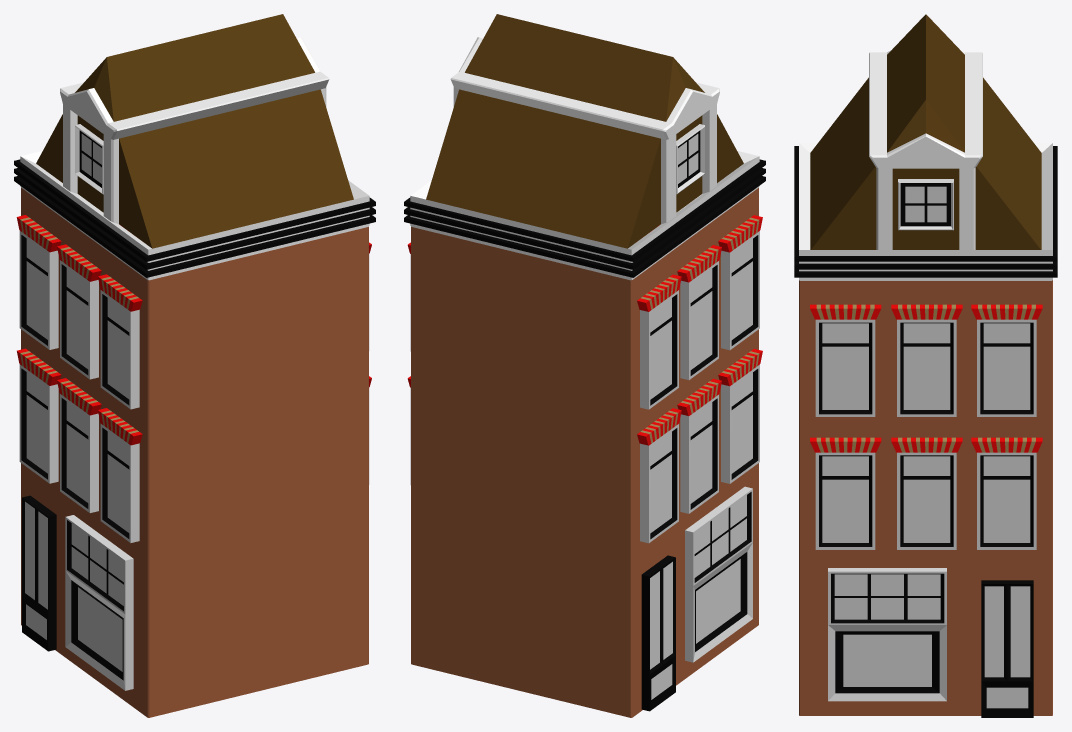
The model's file is CanalHouse2.fbx.
3 views of the same model, side by side, from view 1: azimuth 30°, elevation 25°; view 2: azimuth 150°, elevation 25°; view 3: azimuth 270°, elevation 25° (orthographic).
Visible parts, largest first — view 1: House 2; view 2: House 2; view 3: House 2.
Part boxes in pixels (x1,y1,x2,y2): House 2: [14, 14, 375, 717]; House 2: [404, 14, 765, 717]; House 2: [794, 14, 1057, 717].
Size of the model in its own units: 577 by 1409 by 556.
